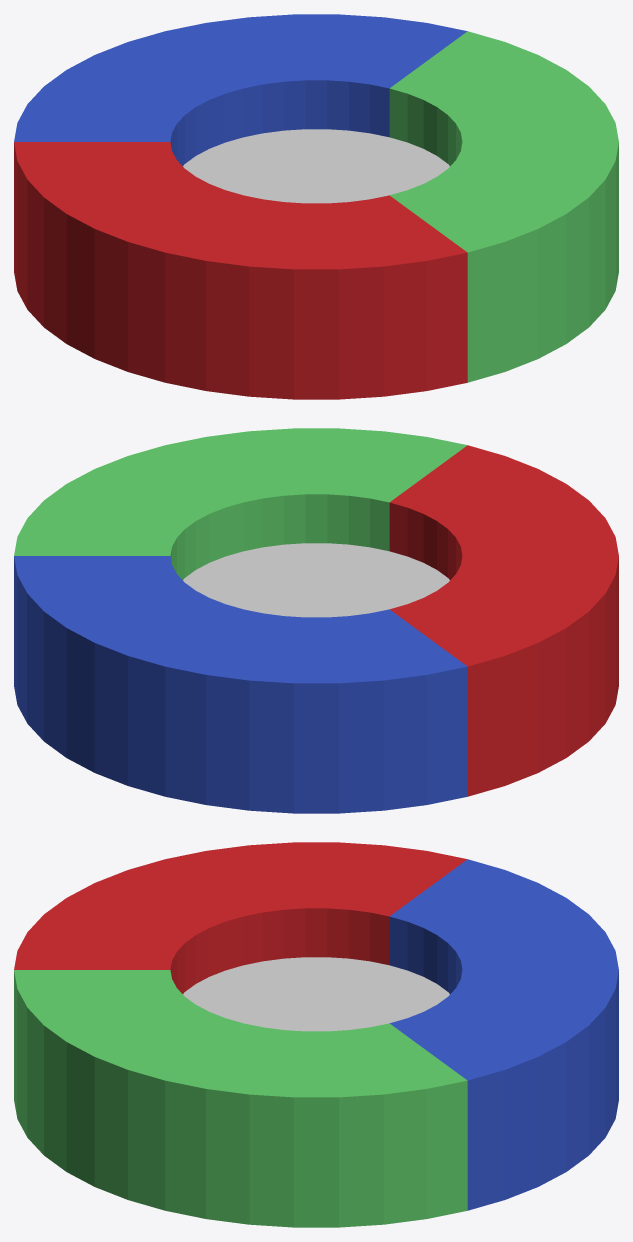
The model's file is GGJ20_Swatch.fbx.
3 views of the same model, one above another, from view 1: azimuth 30°, elevation 25°; view 2: azimuth 150°, elevation 25°; view 3: azimuth 270°, elevation 25° (orthographic).
Parts seen in each view (by area): view 1: Cylinder; view 2: Cylinder; view 3: Cylinder.
Boxes of the visible parts, x1=… form: Cylinder: x1=14, y1=14, x2=618, y2=399; Cylinder: x1=14, y1=428, x2=618, y2=813; Cylinder: x1=14, y1=842, x2=618, y2=1227.
Size of the model in its own units: 199 by 47.48 by 200.
